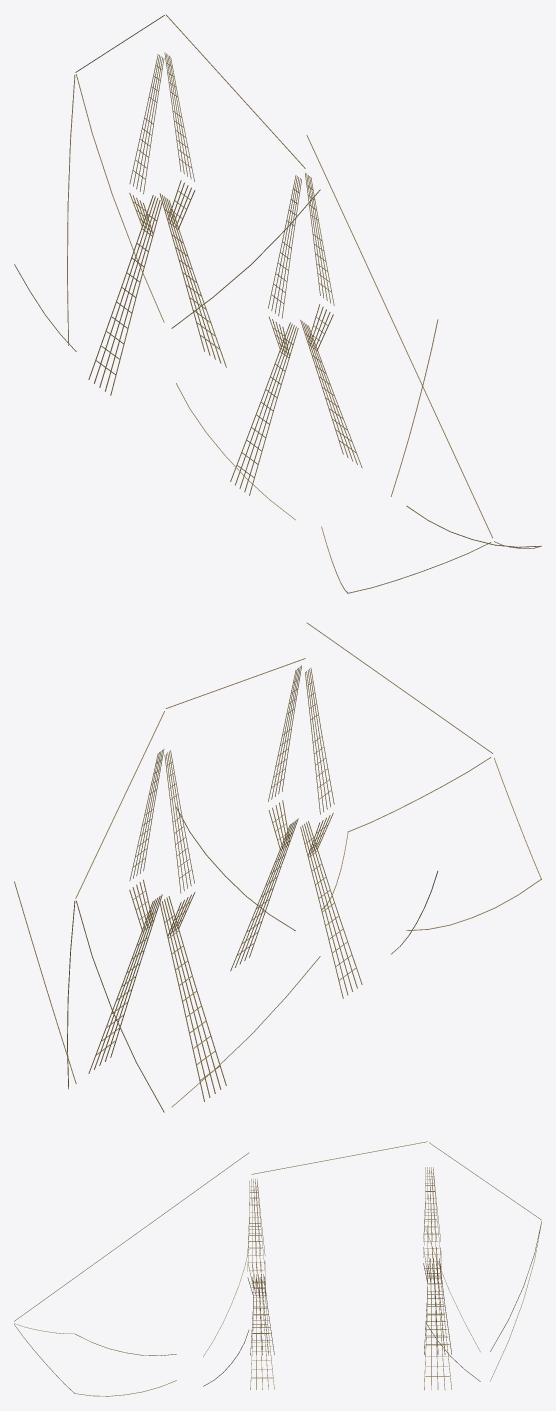
The model's file is Ship rigging.fbx.
The picture shows the model from 3 angles, top to bottom: view 1: azimuth 30°, elevation 25°; view 2: azimuth 150°, elevation 25°; view 3: azimuth 270°, elevation 25°; orthographic projection. The views are drawn at different scales.
Parts seen in each view (by area): view 1: Back right bottom rigging 2, Back left bottom rigging 2, Front Right bottom rigging 2, Back right bottom rigging; view 2: Back right bottom rigging 2, Back left bottom rigging 2, Front Right bottom rigging 2, Back right bottom rigging, Front Left Bottom Rigging 2, Back left bottom rigging, Front Right Bottom Rigging, Front Top Right Rigging 2; view 3: Back left bottom rigging 2, Front Left Bottom Rigging 2, Back right bottom rigging 2, Back left bottom rigging.
Boxes of the visible parts, x1,y1,x2,y2 form: Back right bottom rigging 2: (88, 279, 138, 395); Back left bottom rigging 2: (180, 265, 226, 367); Front Right bottom rigging 2: (230, 395, 275, 495); Back right bottom rigging: (124, 195, 162, 289); Back right bottom rigging 2: (180, 983, 226, 1101); Back left bottom rigging 2: (88, 969, 138, 1073); Front Right bottom rigging 2: (320, 896, 362, 998); Back right bottom rigging: (159, 896, 194, 992); Front Left Bottom Rigging 2: (230, 882, 275, 971); Back left bottom rigging: (124, 894, 162, 979); Front Right Bottom Rigging: (300, 821, 332, 904); Front Top Right Rigging 2: (312, 730, 334, 814); Back left bottom rigging 2: (424, 1319, 451, 1390); Front Left Bottom Rigging 2: (250, 1328, 274, 1389); Back right bottom rigging 2: (424, 1302, 451, 1354); Back left bottom rigging: (427, 1260, 444, 1319).
Bounding box in the file's own units: 15.74 × 18.03 × 37.12.
